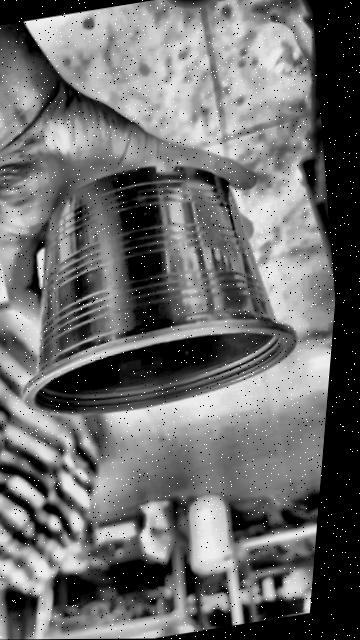pot: (0, 141, 317, 428)
